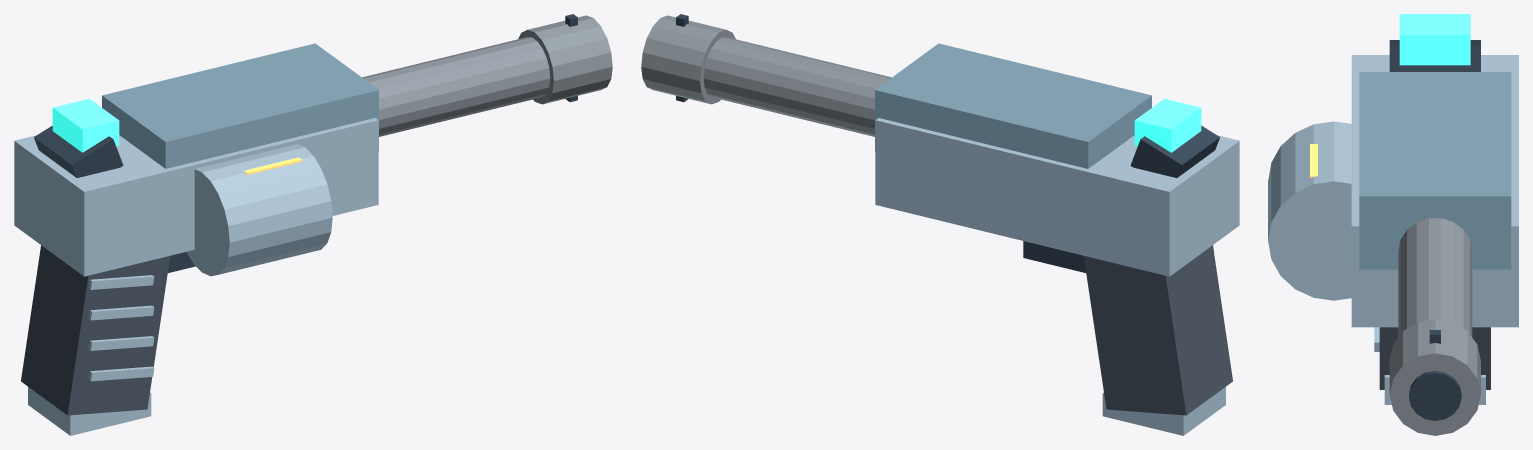
Rendered from revolver.glb.
3 renders of one model, left to right at view 1: azimuth 30°, elevation 25°; view 2: azimuth 150°, elevation 25°; view 3: azimuth 270°, elevation 25°, orthographic. The views are drawn at different scales.
Visible parts, largest first — view 1: Revolver_Frame, Upper_Frame, Revolver_Grip, Six_Shot_Cylinder, Heavy_Barrel, Heavy_Muzzle, Rear_Sight, Hammer, Grip_Base, Revolver_Grip_ridge0, Revolver_Grip_ridge3, Revolver_Grip_ridge1 (+1 smaller); view 2: Revolver_Frame, Upper_Frame, Revolver_Grip, Heavy_Barrel, Heavy_Muzzle, Rear_Sight, Hammer, Grip_Base, Trigger_Guard; view 3: Upper_Frame, Six_Shot_Cylinder, Revolver_Frame, Heavy_Barrel, Heavy_Muzzle, Rear_Sight, Heavy_Muzzle_bore, Revolver_Grip, Hammer, Grip_Base, Cylinder_Latch.
Part boxes in pixels (x1,y1,x2,y2): Revolver_Frame: (14, 118, 378, 276); Upper_Frame: (102, 43, 378, 168); Revolver_Grip: (21, 245, 170, 415); Six_Shot_Cylinder: (186, 144, 332, 276); Heavy_Barrel: (362, 37, 550, 136); Heavy_Muzzle: (518, 15, 612, 104); Rear_Sight: (52, 98, 119, 152); Hammer: (34, 125, 123, 177); Grip_Base: (28, 387, 151, 435); Revolver_Grip_ridge0: (88, 366, 154, 381); Revolver_Grip_ridge3: (88, 275, 154, 289); Revolver_Grip_ridge1: (88, 336, 154, 350); Revolver_Frame: (875, 118, 1239, 276); Upper_Frame: (875, 43, 1151, 168); Revolver_Grip: (1083, 245, 1232, 415); Heavy_Barrel: (703, 37, 891, 136); Heavy_Muzzle: (641, 15, 735, 104); Rear_Sight: (1134, 98, 1201, 152); Hammer: (1130, 125, 1219, 177); Grip_Base: (1102, 387, 1225, 435); Trigger_Guard: (1023, 241, 1085, 272); Upper_Frame: (1359, 72, 1511, 269); Six_Shot_Cylinder: (1268, 121, 1351, 300); Revolver_Frame: (1351, 55, 1518, 327); Heavy_Barrel: (1398, 218, 1472, 337); Heavy_Muzzle: (1389, 319, 1480, 435); Rear_Sight: (1399, 14, 1470, 65); Heavy_Muzzle_bore: (1409, 370, 1461, 420); Revolver_Grip: (1379, 327, 1490, 389); Hammer: (1389, 40, 1480, 71); Grip_Base: (1384, 375, 1485, 404); Cylinder_Latch: (1310, 144, 1317, 178).
Bounding box in the file's own units: 1.5 × 0.7725 × 0.495.
